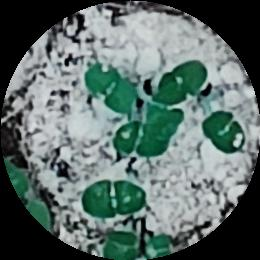Basil: (151, 62, 205, 108), (85, 66, 140, 111), (85, 179, 144, 217), (115, 122, 178, 154), (208, 108, 243, 153), (109, 231, 144, 260)
